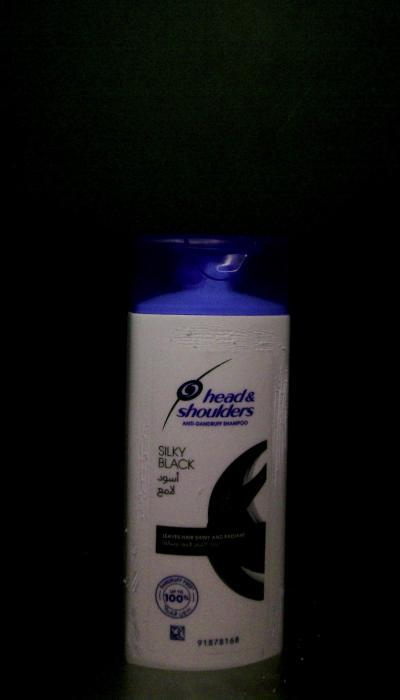scuff_unacc: (264, 346, 288, 512), (127, 418, 152, 559), (168, 325, 281, 356), (264, 580, 289, 662), (124, 603, 147, 659), (122, 566, 142, 594), (194, 483, 206, 502)
